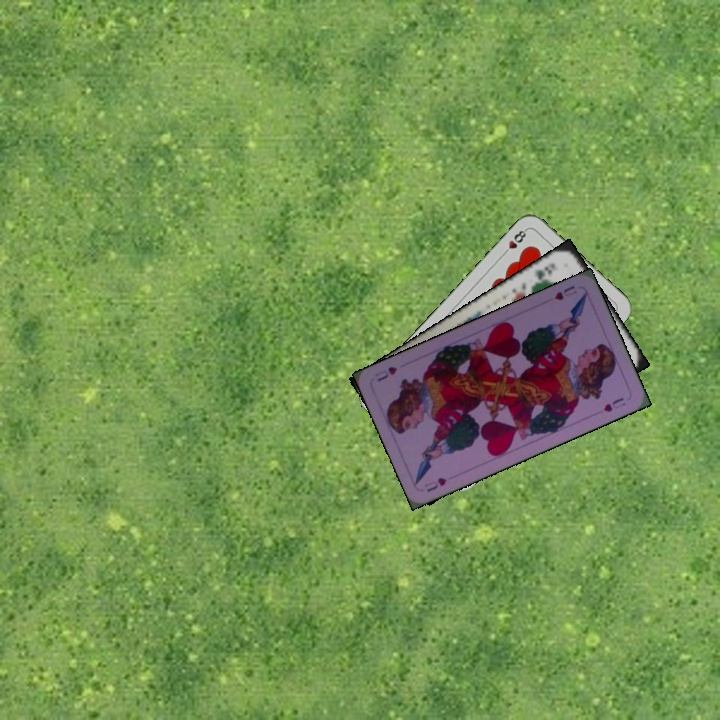GK: (531, 259, 560, 288)
H8: (499, 225, 530, 258)
HU: (550, 281, 580, 303), (420, 473, 449, 495)
